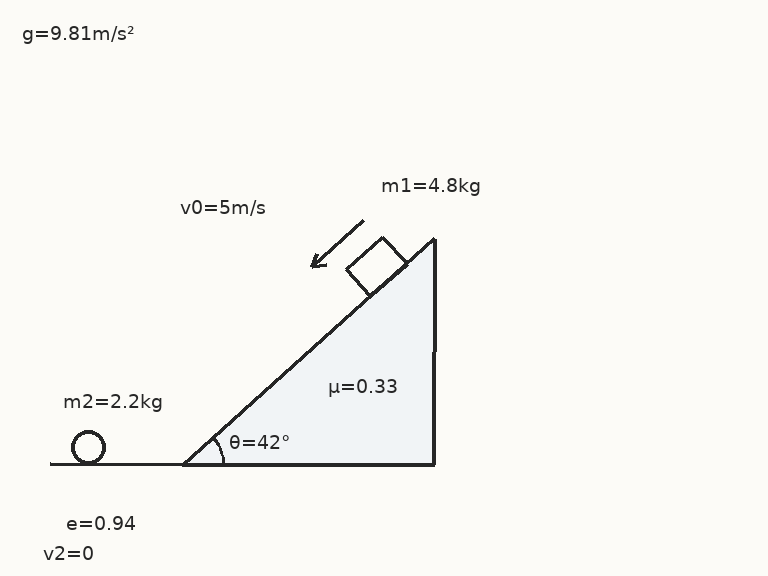ball: (69, 428, 107, 466)
block: (344, 234, 408, 298)
ramp: (181, 236, 435, 466)
